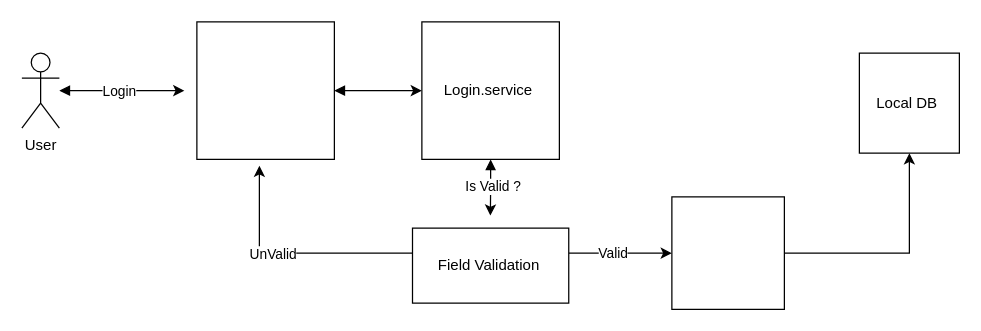
This 981x331 diagram has some shape labels left out. Each missing label, with the centre of its shape:
"Login.controller" belongs at [265,90].
"Login.repo" belongs at [727,252].
